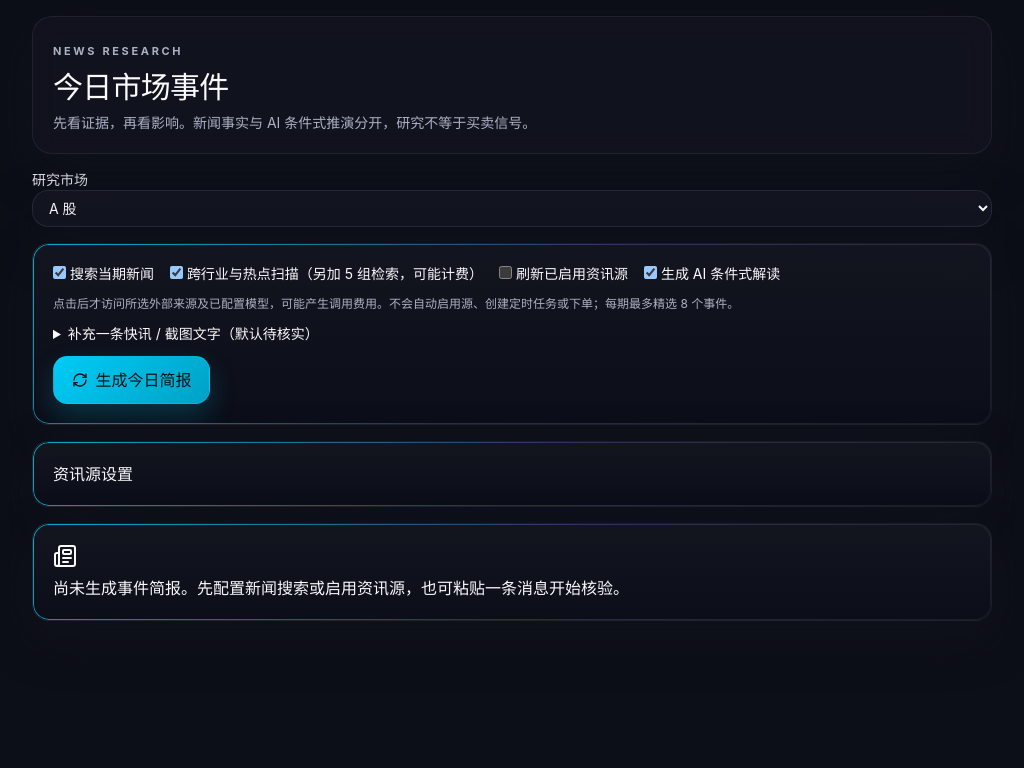
Test case: MarketEventsPage › generates only by explicit click, without enabling feeds or backdating
This screenshot has width=1024, height=768.
Expected: the text "尚未生成事件简报。先配置新闻搜索或启用资讯源，也可粘贴一条消息开始核验。" is shown, [53,578,629,598]
Step 1. Click the button "生成今日简报" → point(132, 380), box [53,356,210,404]
(page scrolled)
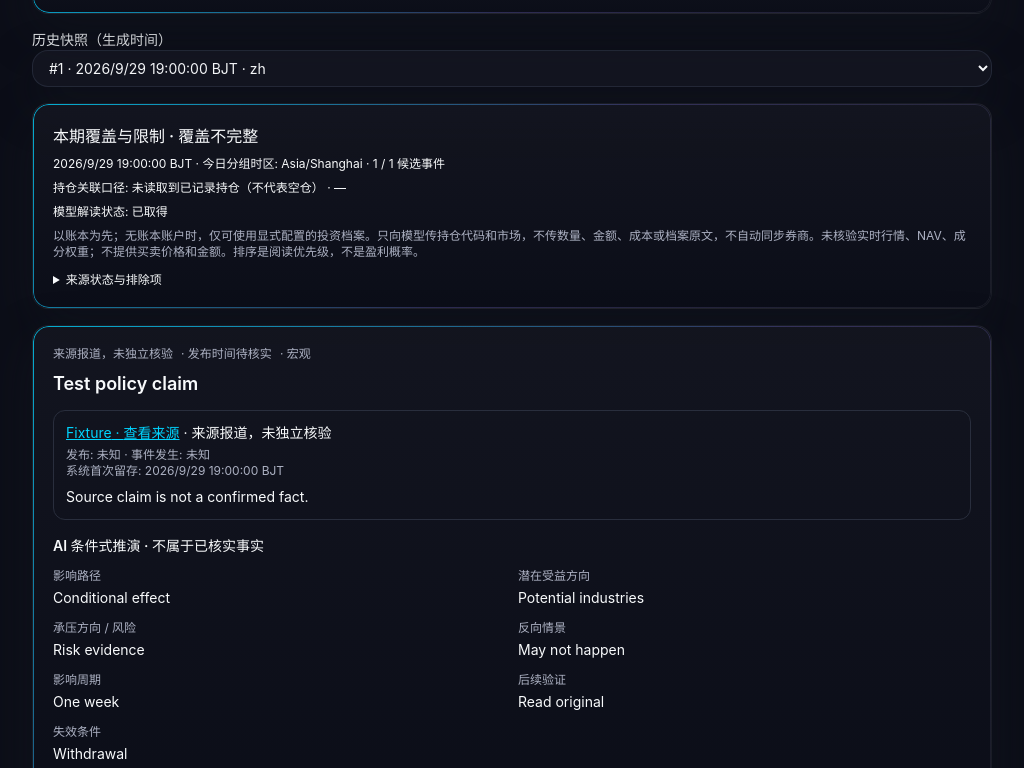
Expected: the heading "Test policy claim" is shown, [53,373,198,394]
